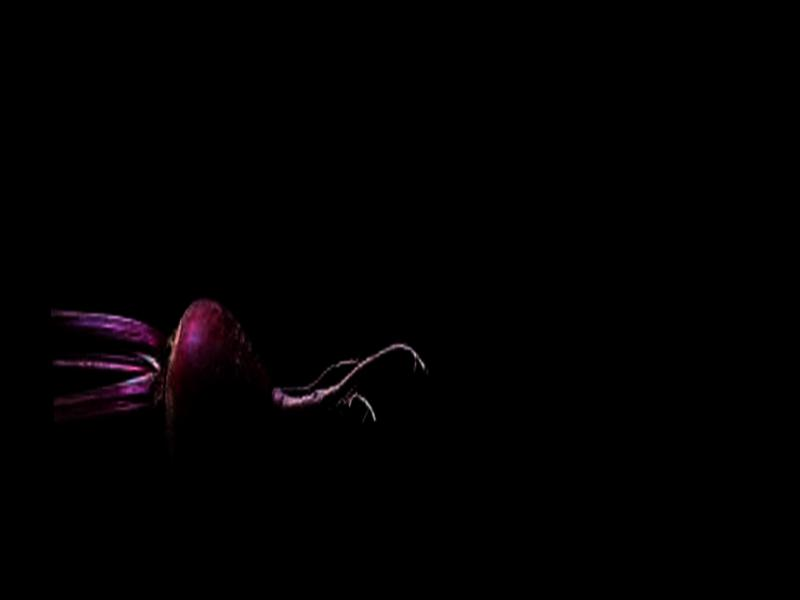Beet: (52, 279, 432, 494)
